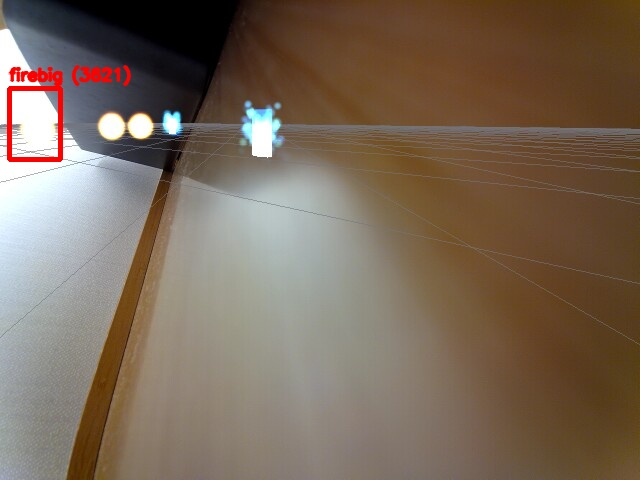firebig: (9, 88, 60, 159)
